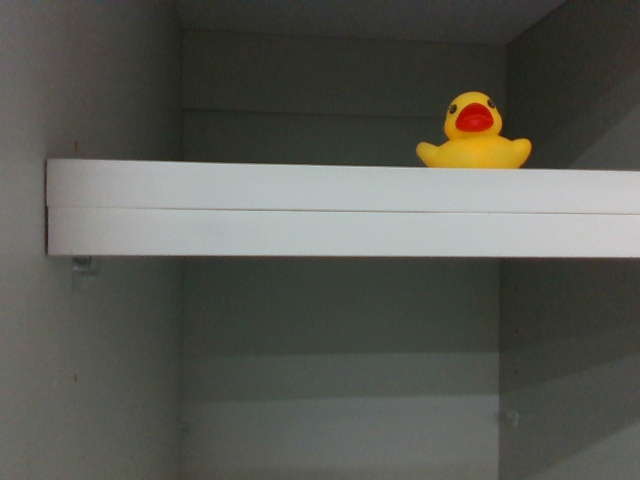duck: (418, 83, 538, 172)
